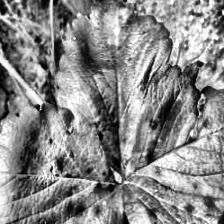Leaf Spot: (54, 0, 173, 178), (122, 60, 224, 224), (0, 100, 124, 224)
